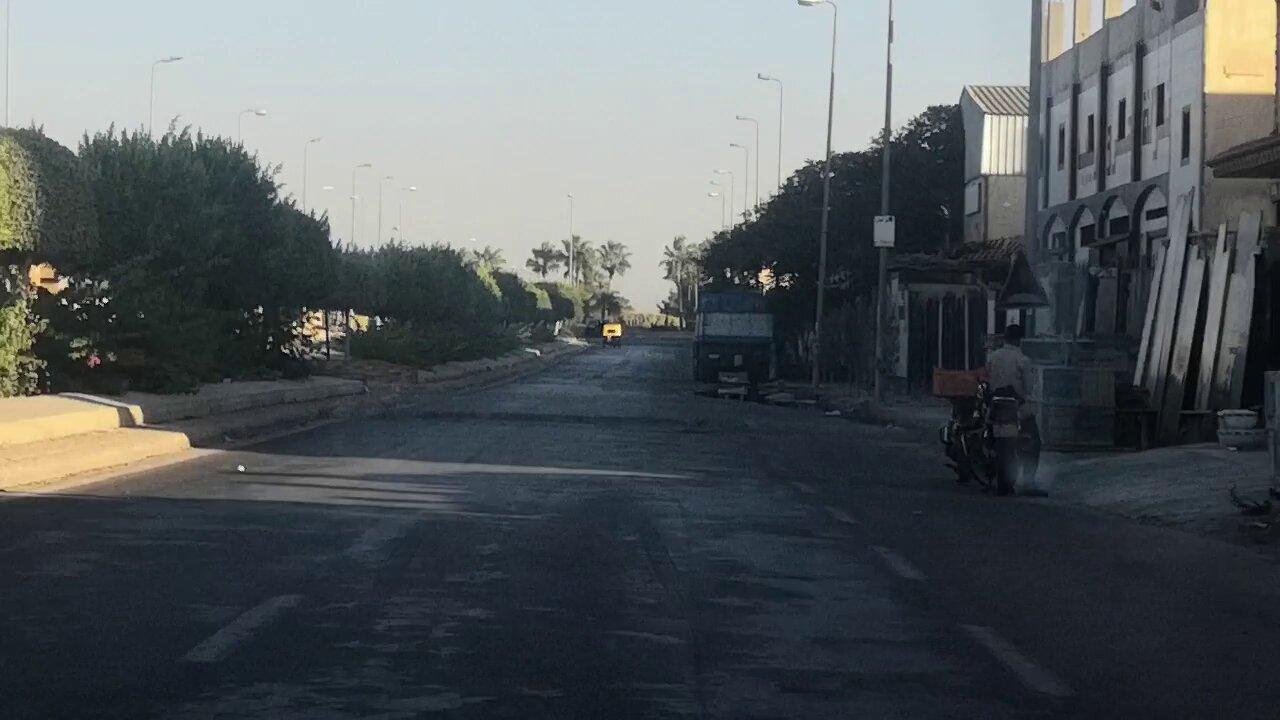Bump: (398, 398, 810, 447)
